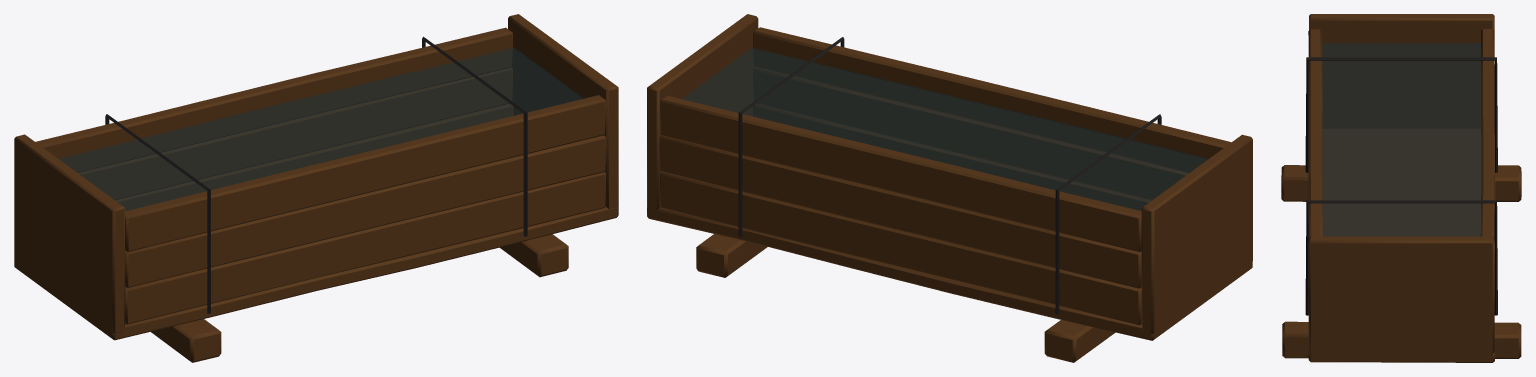
File: wassertrog.glb
3 views of the same model, side by side, from view 1: azimuth 30°, elevation 25°; view 2: azimuth 150°, elevation 25°; view 3: azimuth 270°, elevation 25° (orthographic). The views are drawn at different scales.
Parts seen in each view (by area): view 1: wassertrog; view 2: wassertrog; view 3: wassertrog.
Boxes of the visible parts, <box> form: wassertrog: <box>14,14,618,362</box>; wassertrog: <box>647,14,1252,362</box>; wassertrog: <box>1281,14,1521,362</box>.
Size of the model in its own units: 1.6 by 0.4812 by 0.7116.
